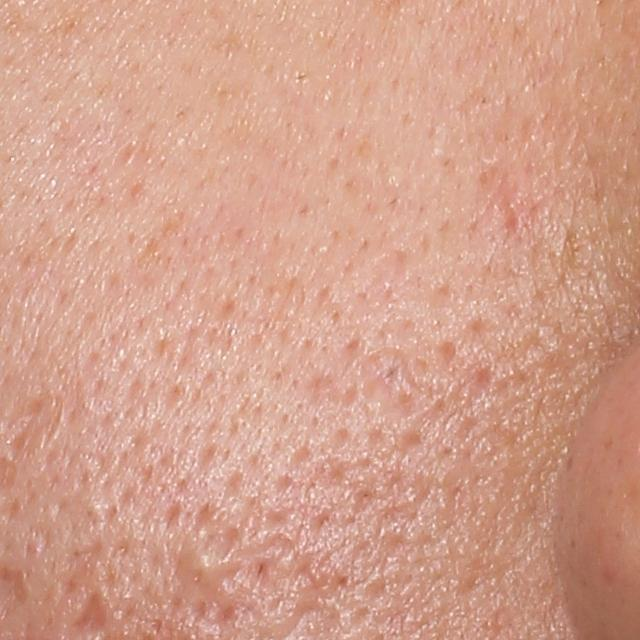atrophic_scar: (0, 391, 67, 461), (67, 587, 113, 636)
hypertrophic_scar: (170, 537, 241, 591)
